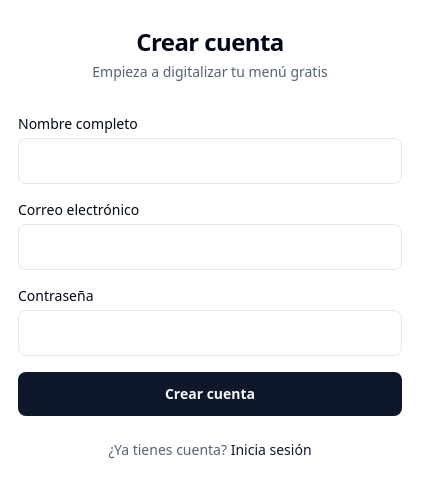
Scenario: RegisterPage › shows server error on duplicate email
In the field labelled "Nombre completo": (210, 161) [18,138,402,184], type "Test"
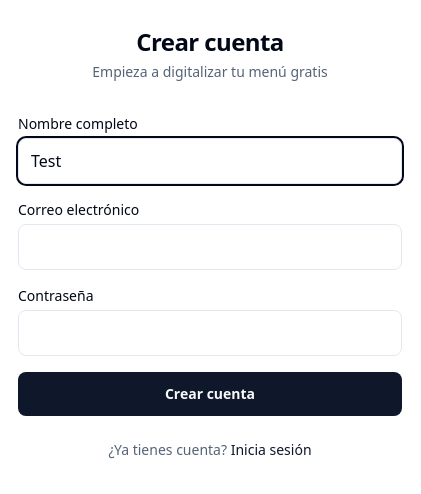
In the field labelled "Correo electrónico": (210, 247) [18,224,402,270], type "dup@tablio.co"
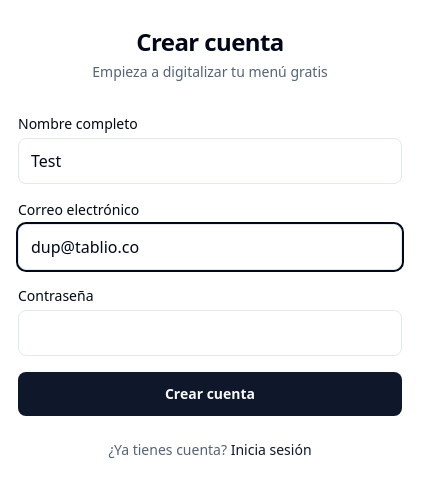
In the password field labelled "Contraseña": (210, 333) [18,310,402,356], type "Secure123!"
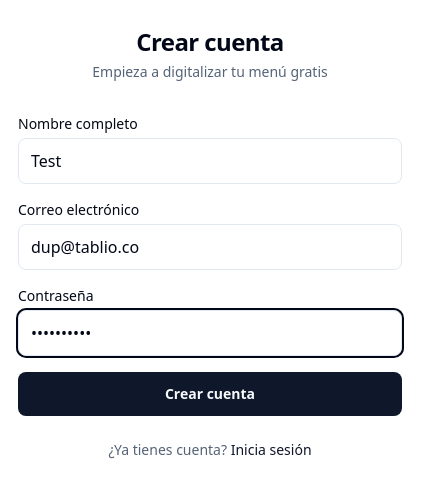
Click the button "Crear cuenta": (210, 394) [18,372,402,416]
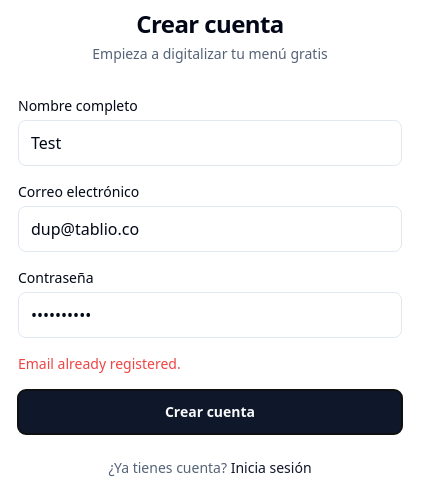
Expected: the message "Email already registered." is shown, [18,354,181,373]
